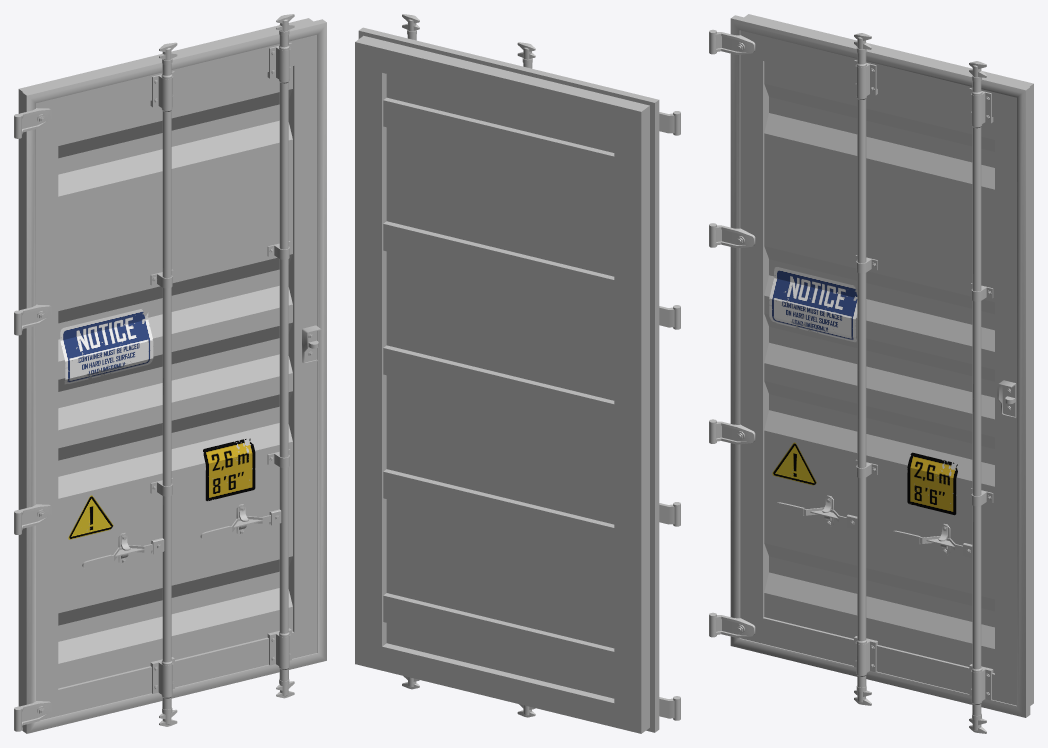
File: ContainerDoorL.FBX
3 views of the same model, side by side, from view 1: azimuth 30°, elevation 25°; view 2: azimuth 150°, elevation 25°; view 3: azimuth 330°, elevation 25° (orthographic).
Parts seen in each view (by area): view 1: ContainerDoorL, ContainerDoorLDecal; view 2: ContainerDoorL; view 3: ContainerDoorL, ContainerDoorLDecal.
Boxes of the visible parts, bbox=[...] form: ContainerDoorL: bbox=[14, 14, 326, 733]; ContainerDoorLDecal: bbox=[60, 309, 255, 539]; ContainerDoorL: bbox=[355, 14, 680, 733]; ContainerDoorL: bbox=[709, 14, 1033, 733]; ContainerDoorLDecal: bbox=[769, 266, 957, 515].
Size of what is drawn, in the model's own units: 245 by 502 by 26.42.
